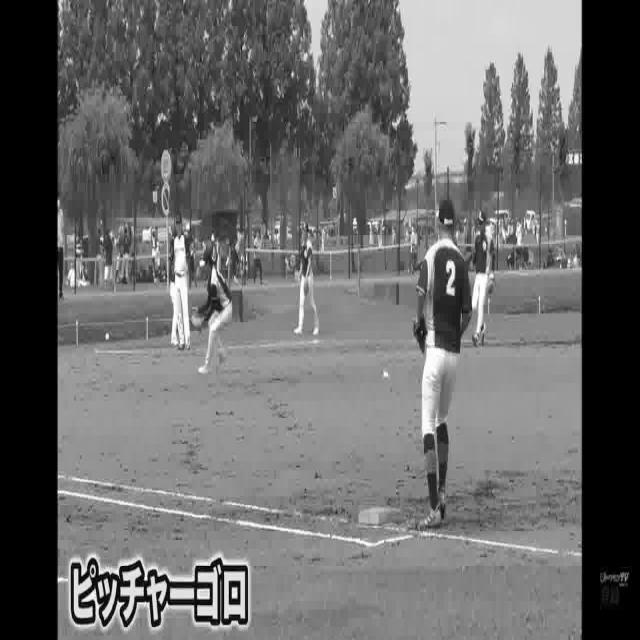base: (357, 497, 402, 522)
baseball: (105, 332, 110, 342)
baseball_glove: (412, 311, 429, 344), (188, 306, 208, 328)
shoe: (215, 348, 235, 374), (422, 504, 442, 527), (194, 353, 212, 377), (436, 489, 448, 512)
